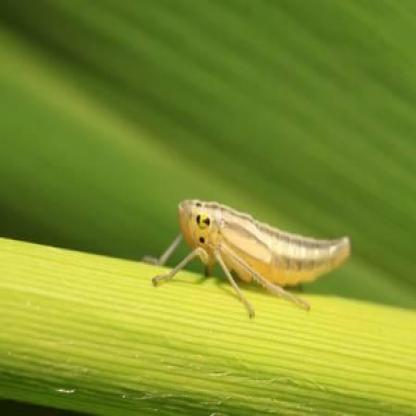Green-Leafhopper: (140, 192, 352, 319)
